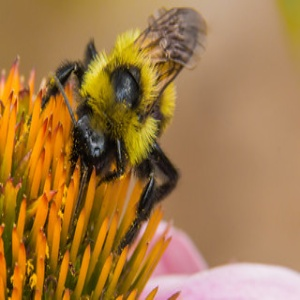bee: (77, 22, 186, 206)
